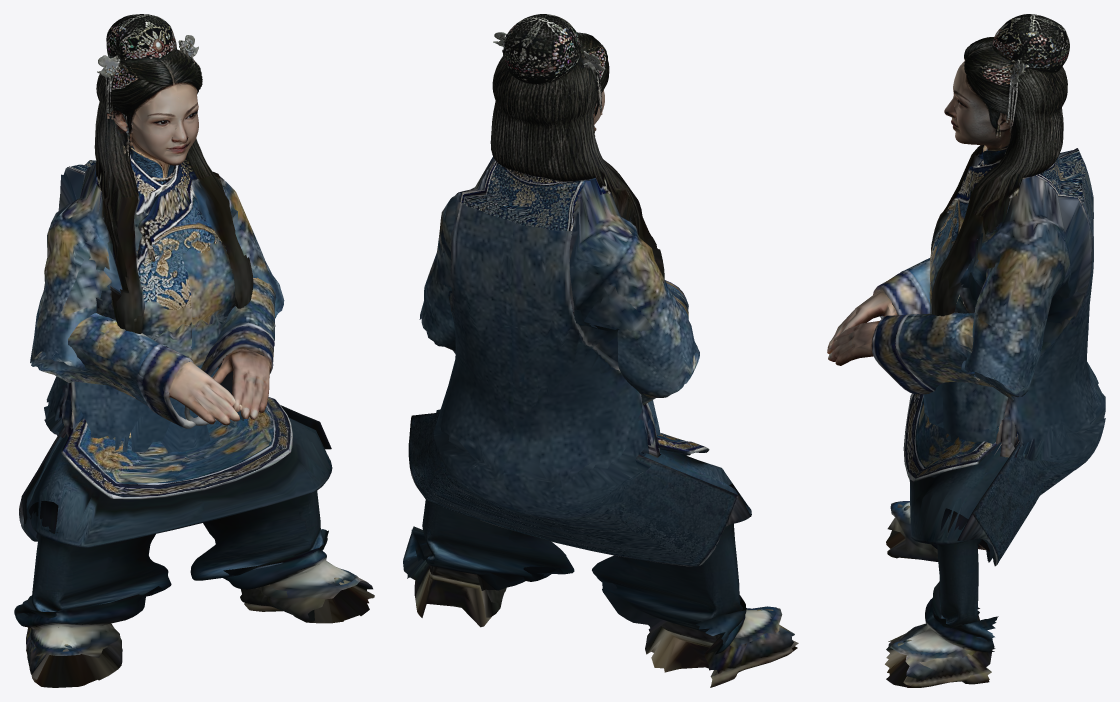
File: cai-wenji.glb
The picture shows the model from 3 angles, left to right: view 1: azimuth 30°, elevation 25°; view 2: azimuth 150°, elevation 25°; view 3: azimuth 270°, elevation 25°; orthographic projection. The views are drawn at different scales.
Size of the model in its own units: 1.16 by 1.95 by 0.8197.
1 material, 1 textured.
